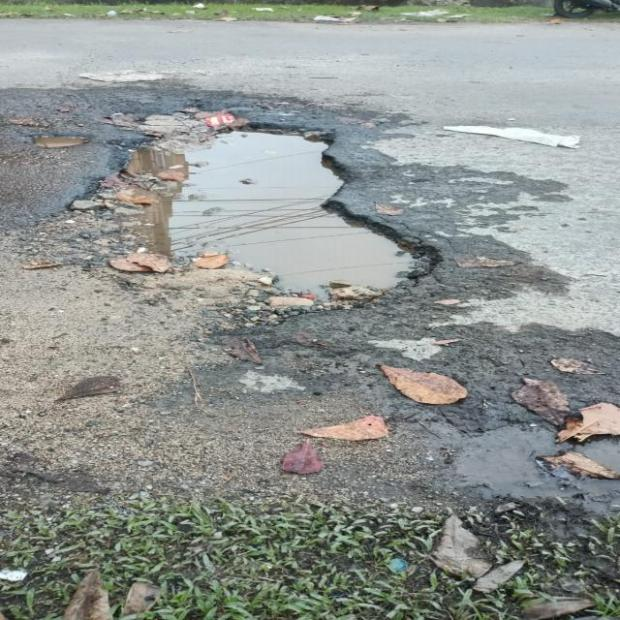lubang: (124, 120, 411, 301), (443, 401, 619, 529)
